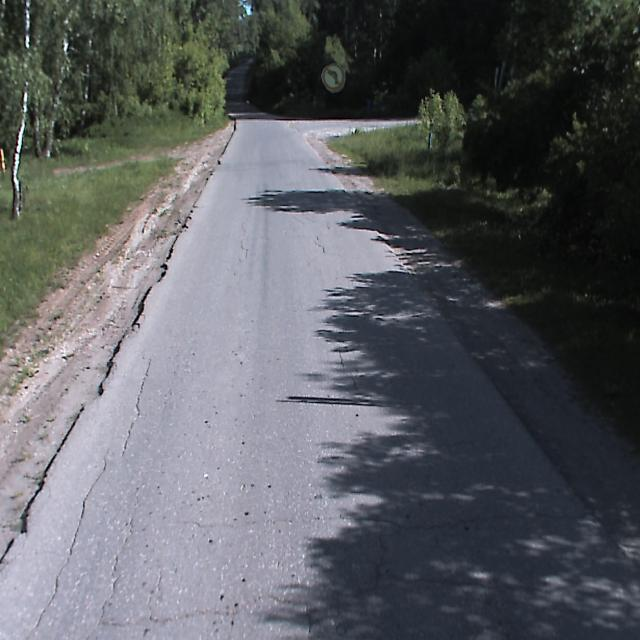road: (0, 100, 639, 639)
